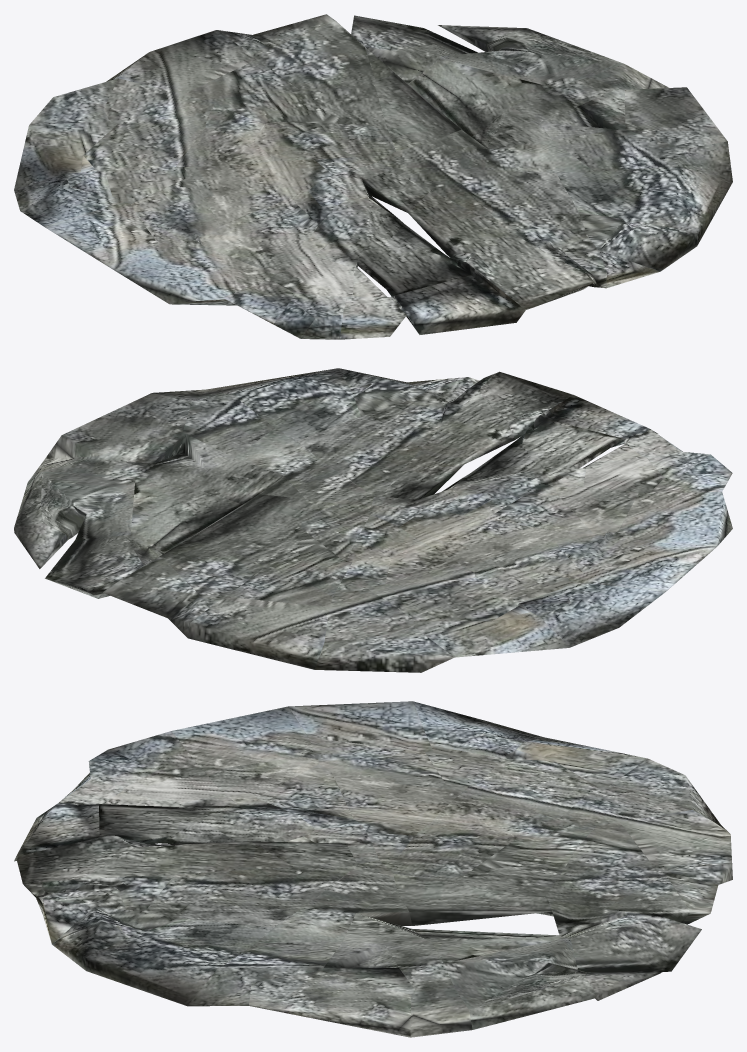
Rendered from s1_table.glb.
3 views of the same model, one above another, from view 1: azimuth 30°, elevation 25°; view 2: azimuth 150°, elevation 25°; view 3: azimuth 270°, elevation 25° (orthographic). The views are drawn at different scales.
Visible parts, largest first — view 1: mesh_node; view 2: mesh_node; view 3: mesh_node.
Part boxes in pixels (<box>): mesh_node: <box>14,14,732,339</box>; mesh_node: <box>14,368,732,672</box>; mesh_node: <box>14,701,732,1037</box>.
Size of the model in its own units: 1.89 by 0.0767 by 1.82.
Materials: 1 (1 with a texture image).
